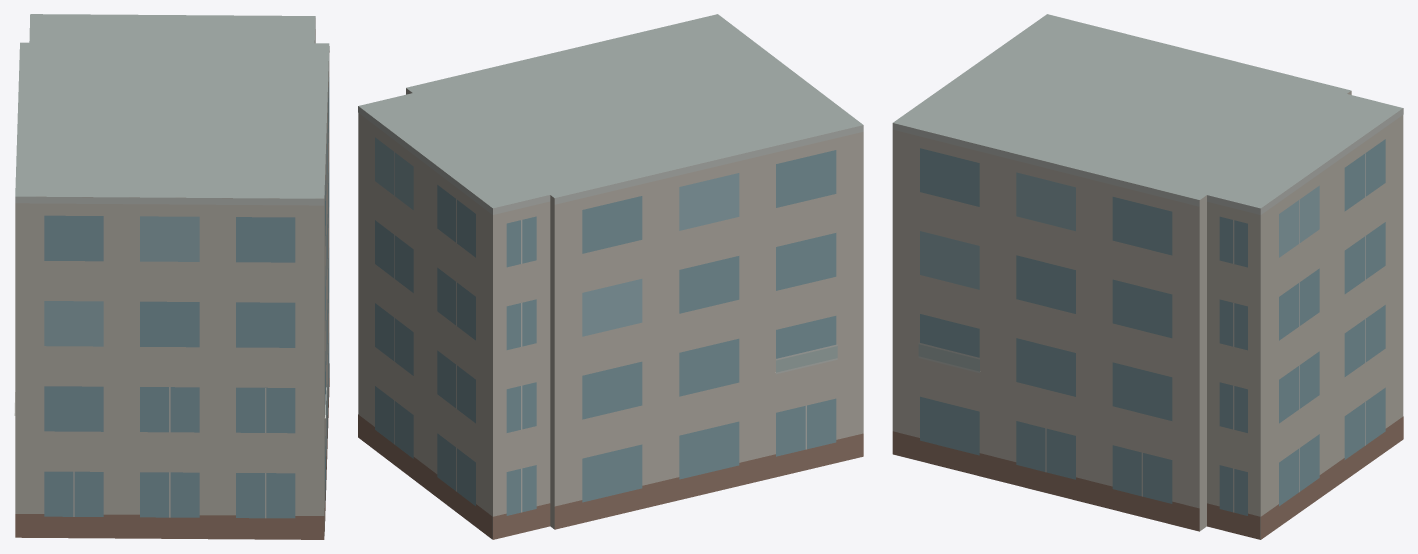
The model's file is survey-upis-32826186.glb.
3 renders of one model, left to right at view 1: azimuth 30°, elevation 25°; view 2: azimuth 150°, elevation 25°; view 3: azimuth 270°, elevation 25°, orthographic. The views are drawn at different scales.
Parts seen in each view (by area): view 1: survey-upis-32826186.tmp; view 2: survey-upis-32826186.tmp; view 3: survey-upis-32826186.tmp.
Part boxes in pixels (<box>): survey-upis-32826186.tmp: <box>14,14,329,539</box>; survey-upis-32826186.tmp: <box>358,14,863,539</box>; survey-upis-32826186.tmp: <box>892,14,1403,539</box>.
Bounding box in the file's own units: 15.36 × 12.2 × 17.05.
